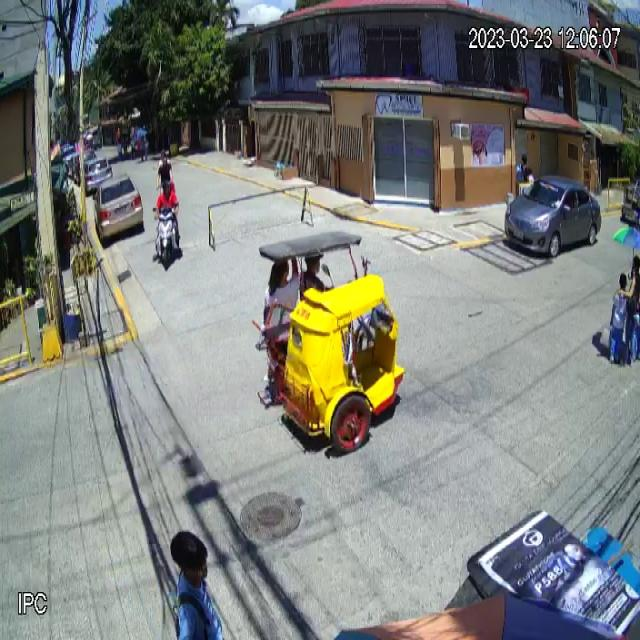Car: (504, 176, 601, 258), (93, 172, 144, 244)
Motorcycle: (152, 202, 180, 269)
Tricycle: (258, 228, 404, 452)
